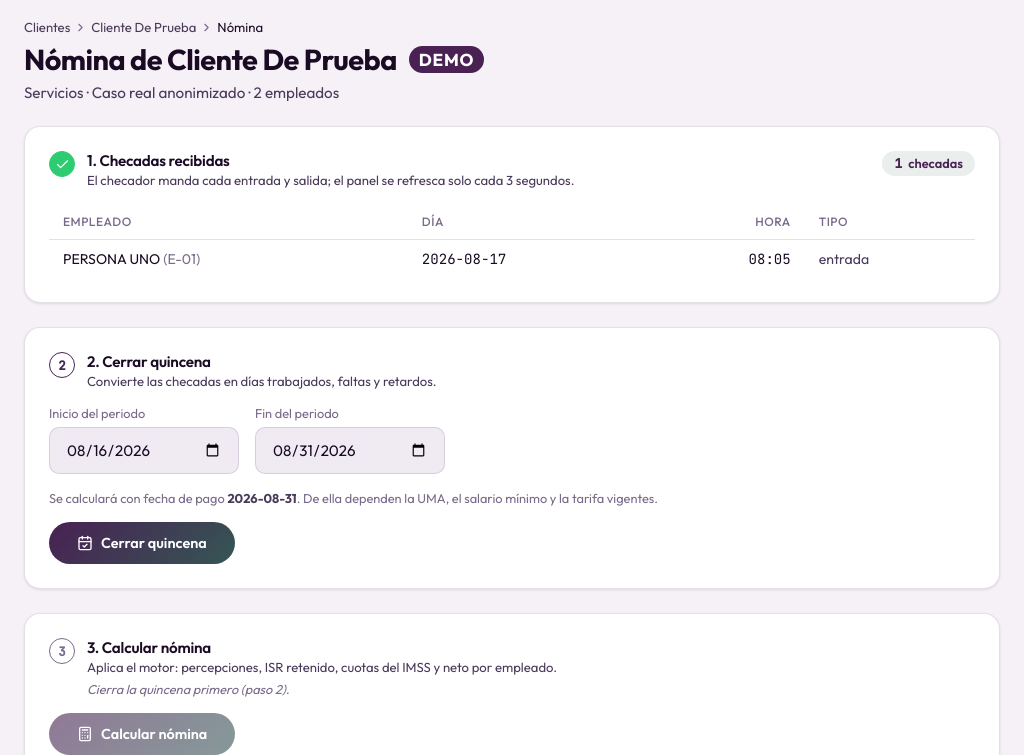
NominaClientePage › al cerrar pinta faltas, retardos y los empleados desconocidos
Expected: the date field showing "2026-08-16" is shown, [49, 427, 239, 474]
Click the button "Cerrar quincena": (142, 543) [49, 522, 235, 564]
(page scrolled)
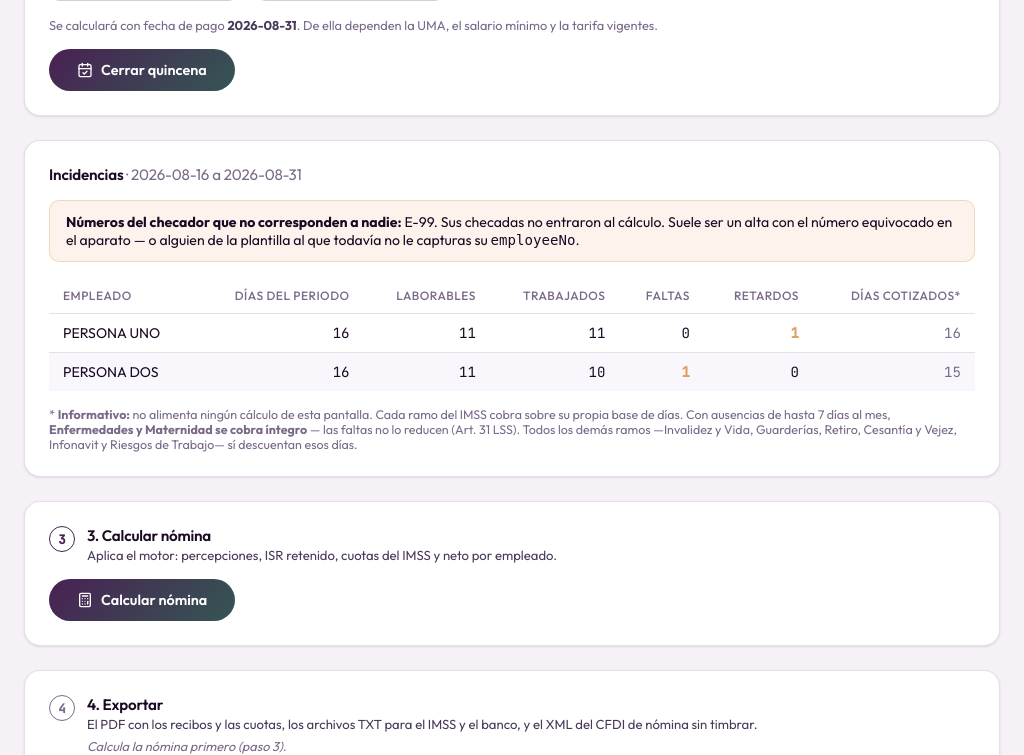
Expected: the text "Números del checador que no corresponden a nadie:" is shown, [66, 213, 402, 231]
Expected: the text "E-99" is shown, [404, 213, 434, 231]
Expected: the text "PERSONA DOS" is shown, [49, 352, 196, 391]
